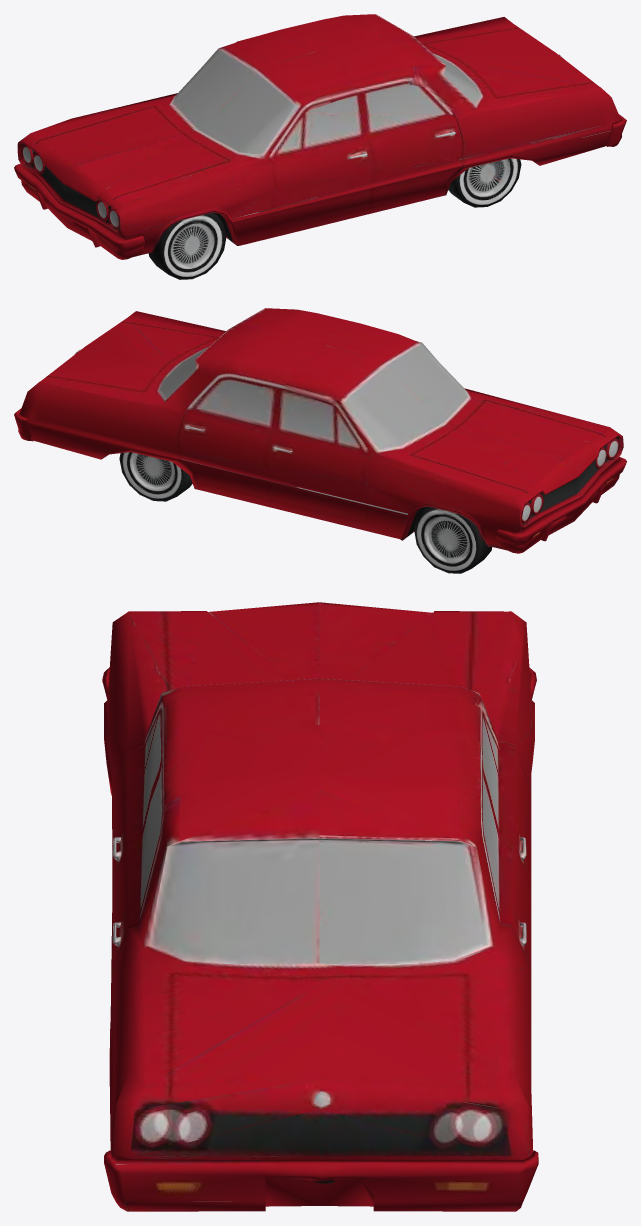
The model's file is lowrider.glb.
3 views of the same model, one above another, from view 1: azimuth 30°, elevation 25°; view 2: azimuth 150°, elevation 25°; view 3: azimuth 270°, elevation 25° (orthographic). The views are drawn at different scales.
Size of the model in its own units: 0.9536 by 0.2651 by 0.3457.
Materials: 1 (1 with a texture image).
